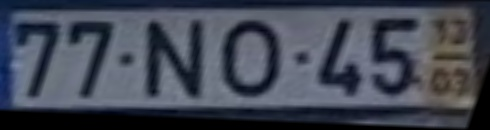4: (310, 17, 369, 102)
5: (370, 17, 425, 100)
7: (66, 20, 119, 103), (12, 22, 65, 103)
N: (141, 16, 207, 103)
O: (219, 15, 289, 103)
